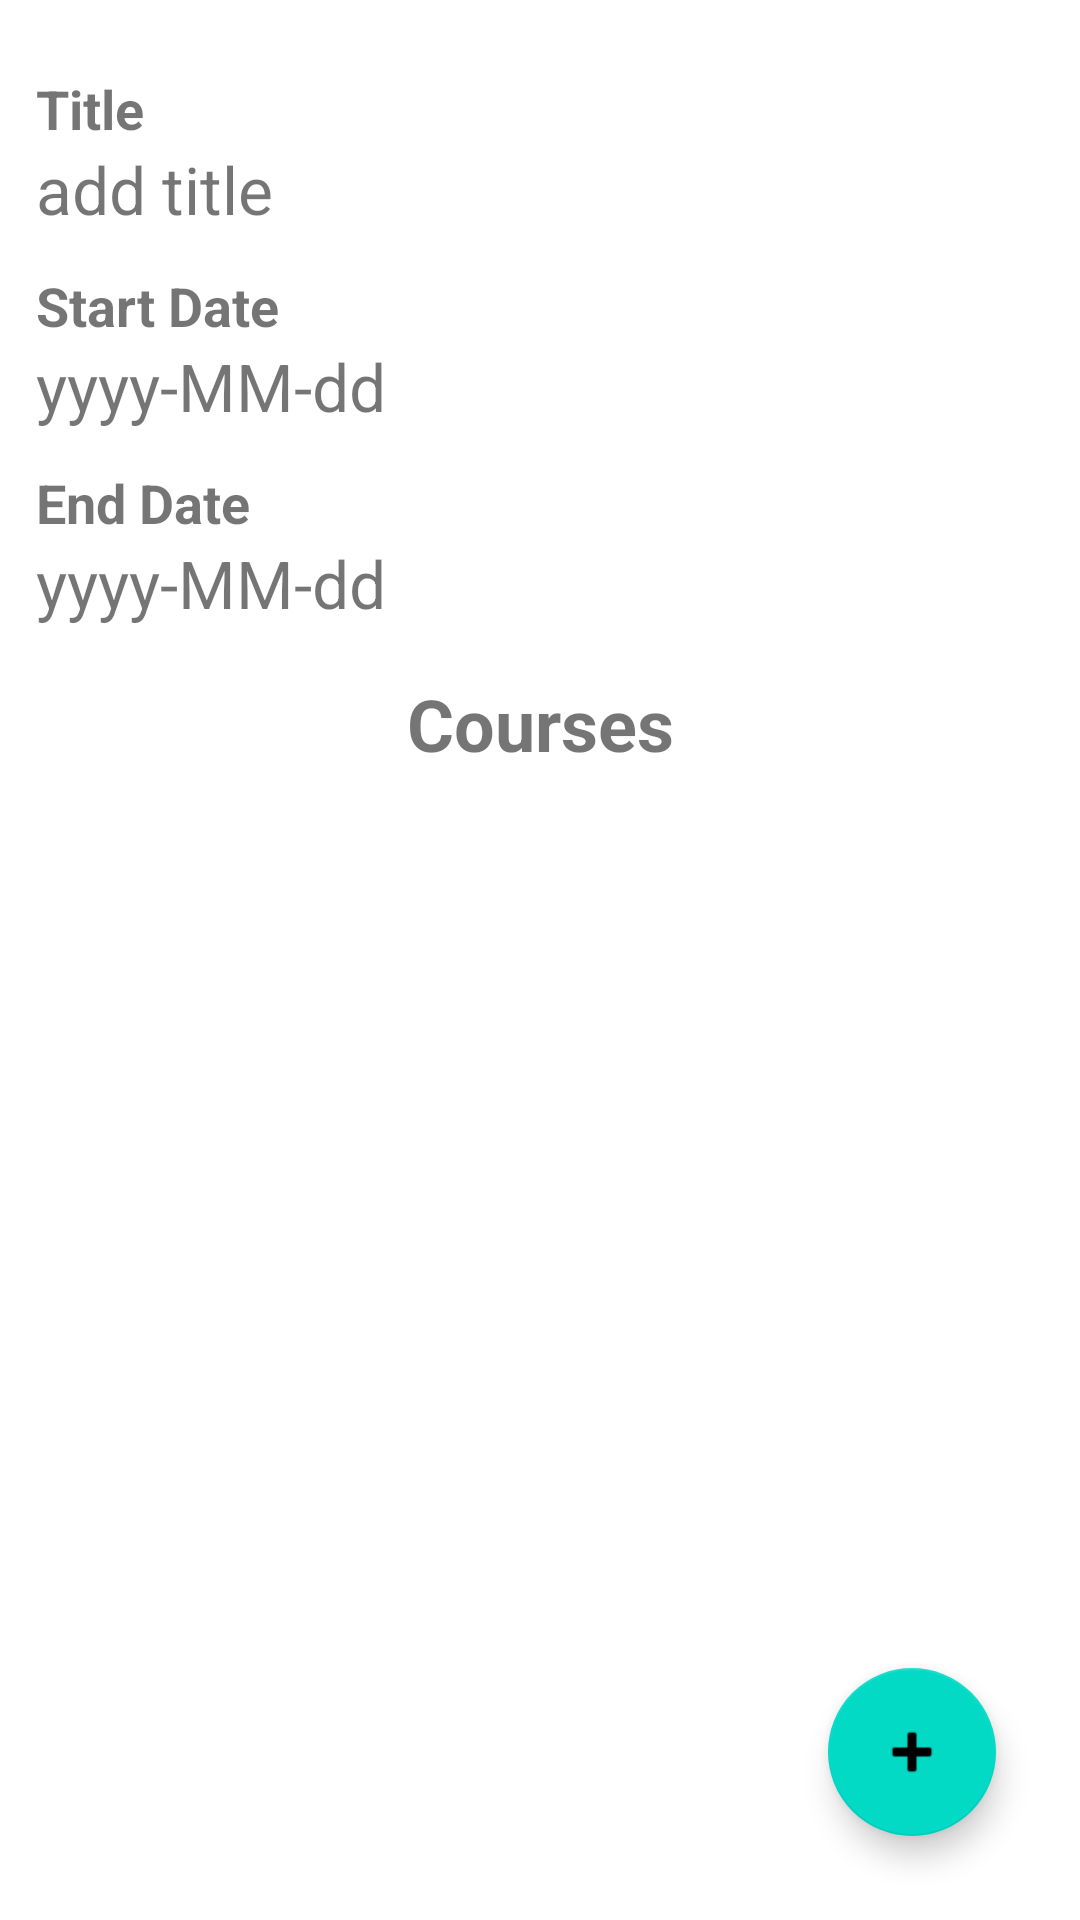

Screen size 1080×1920. Icon name, then its box in pixels as (x1, y1, x2, y2):
Add Course: (828, 1668, 996, 1836)
